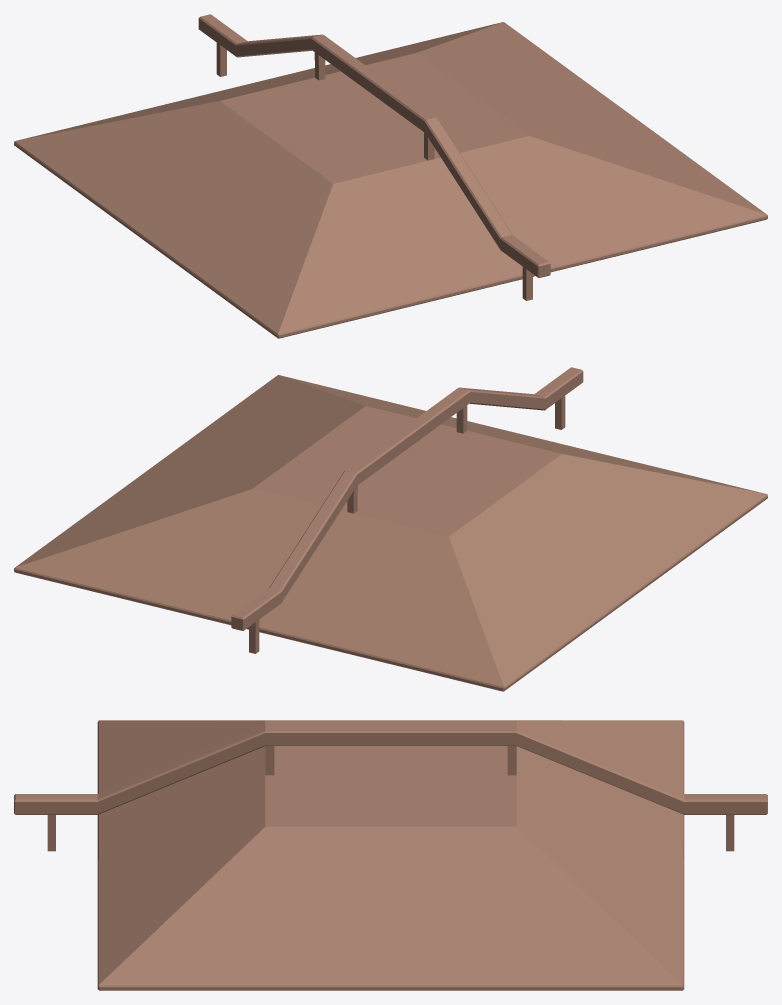
The model's file is mesh_skatePyramidSolo.fbx.
3 views of the same model, one above another, from view 1: azimuth 30°, elevation 25°; view 2: azimuth 150°, elevation 25°; view 3: azimuth 270°, elevation 25° (orthographic). The views are drawn at different scales.
Visible parts, largest first — view 1: mesh_skatePyramidSolo; view 2: mesh_skatePyramidSolo; view 3: mesh_skatePyramidSolo.
Part boxes in pixels (box(x1,y1,x2,y2)): mesh_skatePyramidSolo: box(14, 14, 767, 338); mesh_skatePyramidSolo: box(14, 367, 767, 691); mesh_skatePyramidSolo: box(14, 720, 767, 990).
Size of the model in its own units: 37.52 by 8.01 by 45.
